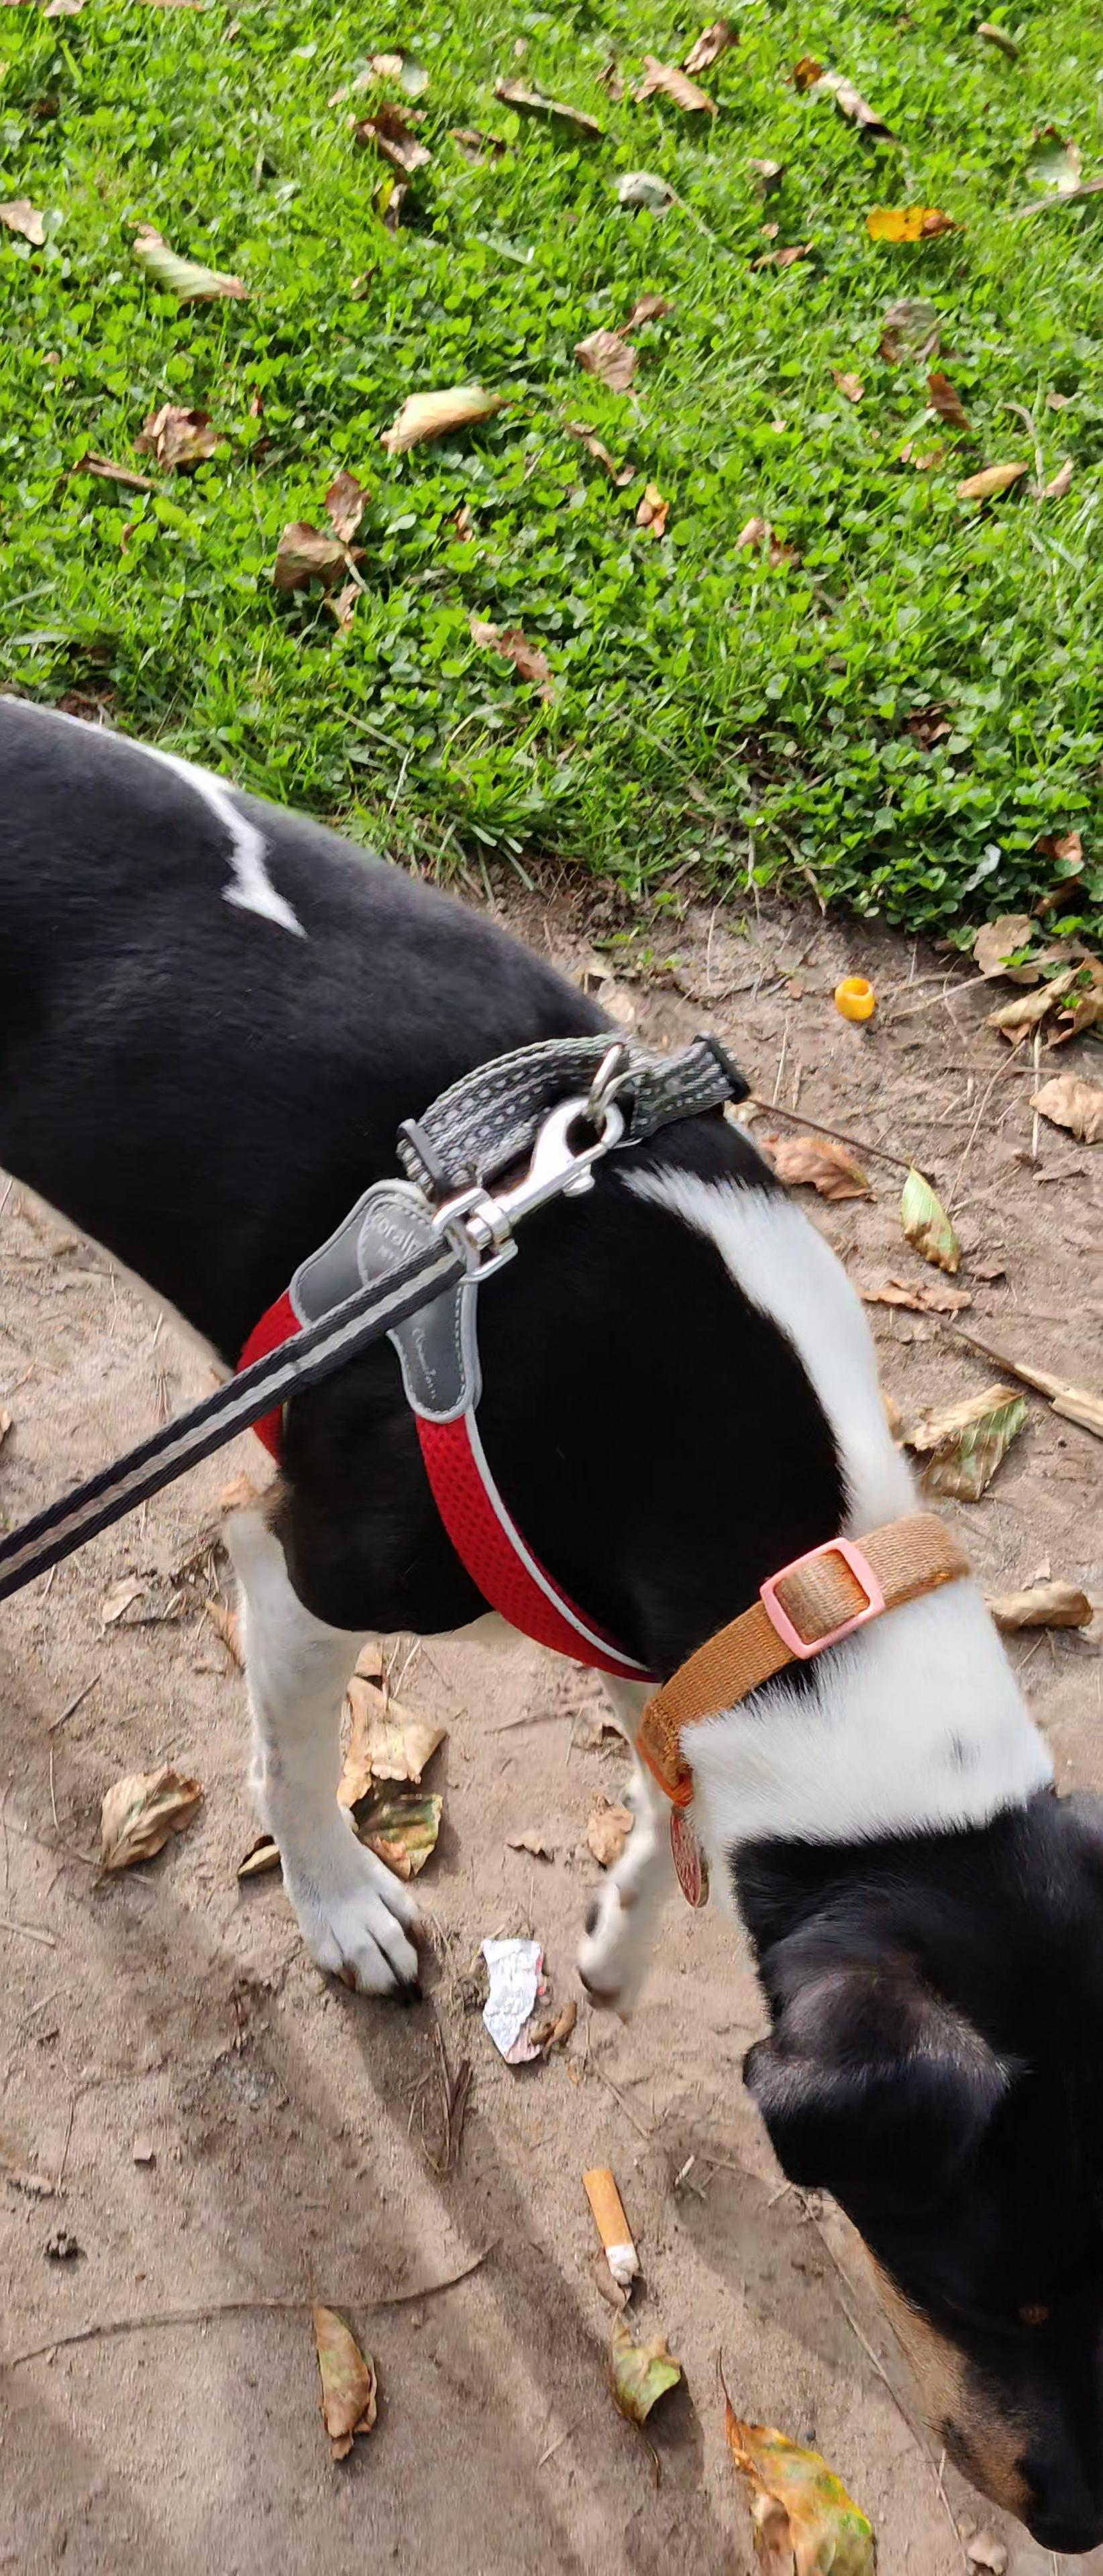Dog: (0, 657, 1103, 2556)
